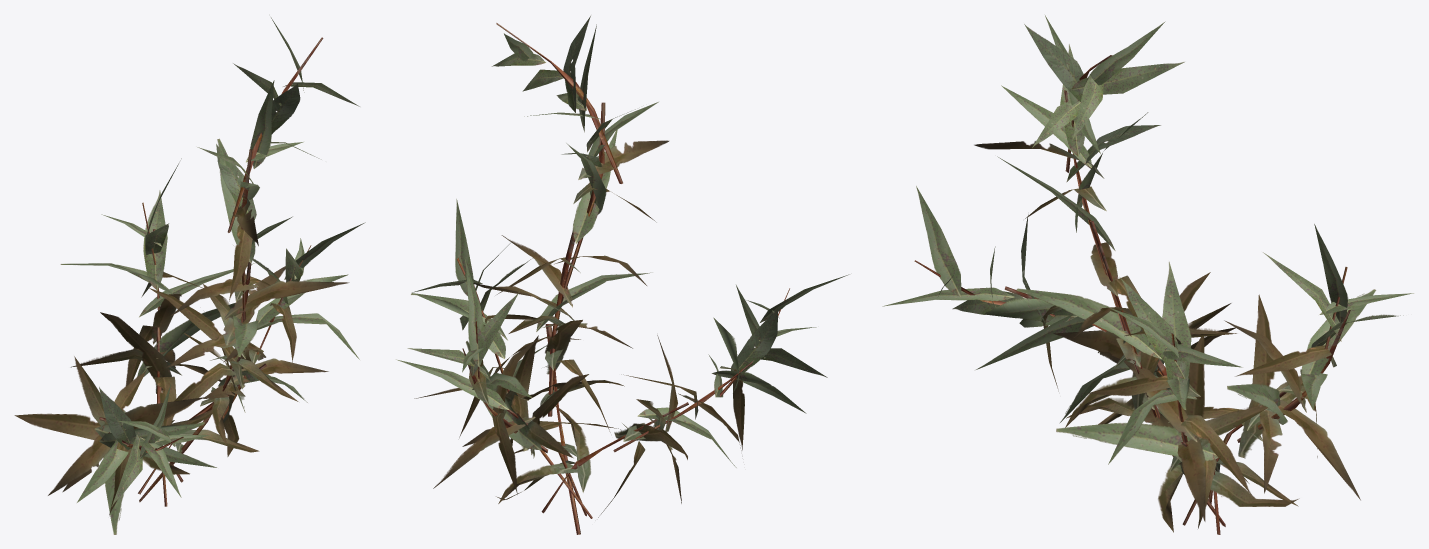
The model's file is shrub_b_lod0.glb.
The picture shows the model from 3 angles, left to right: view 1: azimuth 30°, elevation 25°; view 2: azimuth 150°, elevation 25°; view 3: azimuth 270°, elevation 25°; orthographic projection. The views are drawn at different scales.
Parts seen in each view (by area): view 1: leaf; view 2: leaf; view 3: leaf.
Part boxes in pixels (left/top/right/bottom): leaf: left=14, top=17, right=365, bottom=534; leaf: left=396, top=16, right=849, bottom=534; leaf: left=882, top=15, right=1413, bottom=534.
Size of the model in its own units: 1.13 by 1.5 by 1.29.
Materials: 1 (1 with a texture image).
